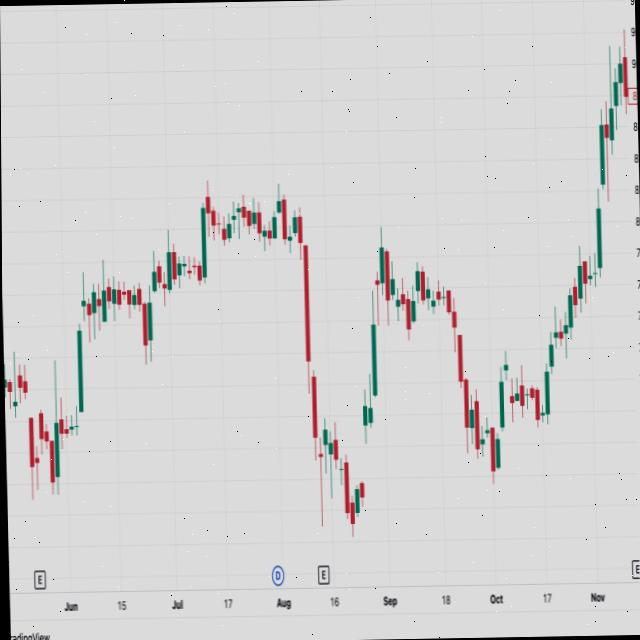Gap Down: (18, 359, 40, 513)
Gap Up: (356, 396, 370, 514)
